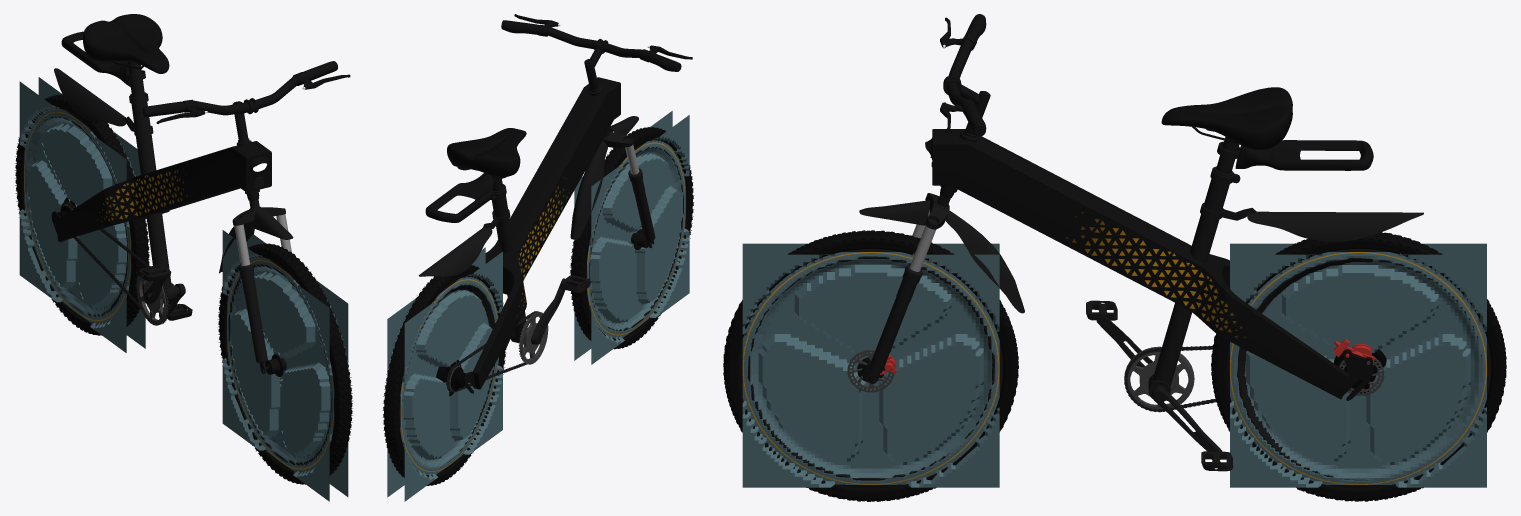
Rendered from 1st_graphics_4_yellow.glb.
3 renders of one model, left to right at view 1: azimuth 30°, elevation 25°; view 2: azimuth 150°, elevation 25°; view 3: azimuth 270°, elevation 25°, orthographic. The views are drawn at different scales.
Parts seen in each view (by area): view 1: W 1st graphics 4, frame, treads front, seat, treads rear, seat joint, handle bar, Part1, rear fender, Cube.008, fender front, 1st graphics 4 (+8 smaller); view 2: W 1st graphics 4, frame, treads rear, treads front, seat, handle bar, fender front, Cube.008, rear fender, Part1, seat joint, rear sprocket (+8 smaller); view 3: W 1st graphics 4, frame, treads front, treads rear, seat, seat joint, rear fender, Cube.008, fender front, alloy wheel.001, Part1, handle bar (+4 smaller).
Part boxes in pixels (left/top/right/bottom): W 1st graphics 4: left=19, top=77, right=348, bottom=501; frame: left=51, top=141, right=271, bottom=242; treads front: left=218, top=243, right=352, bottom=484; seat: left=83, top=14, right=169, bottom=73; treads rear: left=14, top=94, right=149, bottom=335; seat joint: left=126, top=61, right=179, bottom=303; handle bar: left=142, top=61, right=350, bottom=123; Part1: left=232, top=199, right=294, bottom=373; rear fender: left=54, top=68, right=130, bottom=126; Cube.008: left=61, top=31, right=130, bottom=86; fender front: left=219, top=208, right=293, bottom=273; 1st graphics 4: left=98, top=169, right=190, bottom=221; W 1st graphics 4: left=387, top=111, right=689, bottom=501; frame: left=464, top=77, right=620, bottom=393; treads rear: left=382, top=265, right=506, bottom=485; treads front: left=569, top=127, right=694, bottom=349; seat: left=447, top=128, right=526, bottom=178; handle bar: left=501, top=14, right=692, bottom=71; fender front: left=570, top=116, right=638, bottom=239; Cube.008: left=425, top=173, right=495, bottom=222; rear fender: left=418, top=226, right=492, bottom=276; Part1: left=602, top=130, right=655, bottom=247; seat joint: left=490, top=178, right=531, bottom=344; rear sprocket: left=518, top=312, right=548, bottom=364; W 1st graphics 4: left=742, top=243, right=1486, bottom=487; frame: left=933, top=129, right=1373, bottom=400; treads front: left=723, top=230, right=1018, bottom=501; treads rear: left=1211, top=232, right=1506, bottom=501; seat: left=1161, top=87, right=1292, bottom=149; seat joint: left=1148, top=136, right=1240, bottom=398; rear fender: left=1247, top=211, right=1423, bottom=241; Cube.008: left=1235, top=140, right=1373, bottom=170; fender front: left=859, top=200, right=1024, bottom=313; alloy wheel.001: left=1226, top=248, right=1491, bottom=488; Part1: left=866, top=193, right=950, bottom=384; handle bar: left=940, top=14, right=986, bottom=136.
Bounding box in the file's own units: 0.6041 × 1.07 × 1.77.
13 materials, 2 textured.
